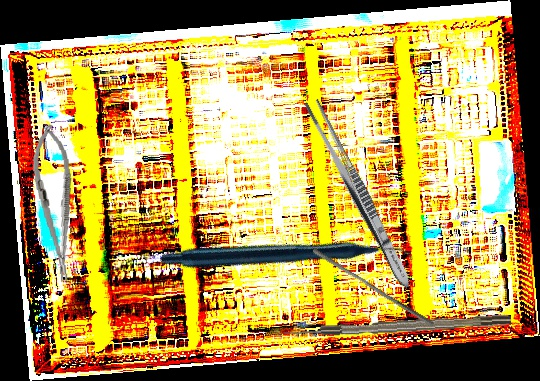Dressing Forceps: (300, 96, 418, 292)
Handpiece: (158, 138, 415, 379)
Hook Surgical: (282, 314, 512, 339)
Needle Holder: (27, 122, 83, 284)
Pusher: (309, 247, 438, 327)
